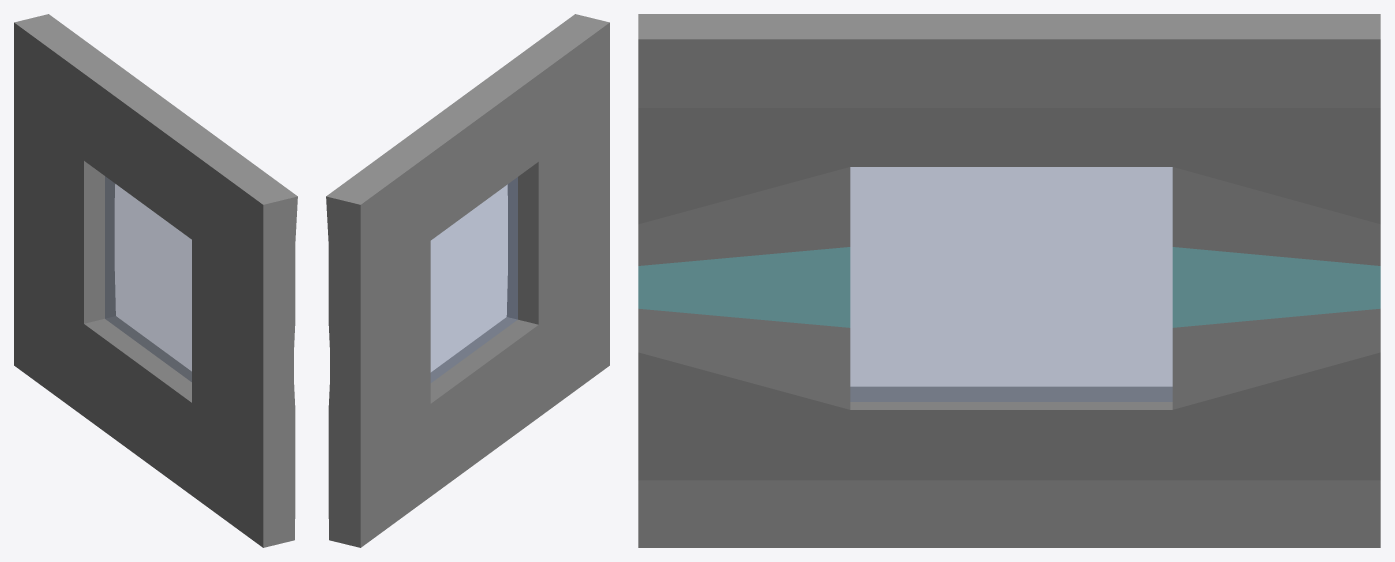
Rendered from SciFiWallPanelWindow_2.fbx.
3 renders of one model, left to right at view 1: azimuth 30°, elevation 25°; view 2: azimuth 150°, elevation 25°; view 3: azimuth 270°, elevation 25°, orthographic. The views are drawn at different scales.
Parts seen in each view (by area): view 1: SciFiWallPanel; view 2: SciFiWallPanel; view 3: SciFiWallPanel.
Part boxes in pixels (x1=…): SciFiWallPanel: x1=14, y1=14, x2=297, y2=547; SciFiWallPanel: x1=326, y1=14, x2=609, y2=547; SciFiWallPanel: x1=638, y1=14, x2=1380, y2=547.
Bounding box in the file's own units: 58.2 × 550 × 725.
